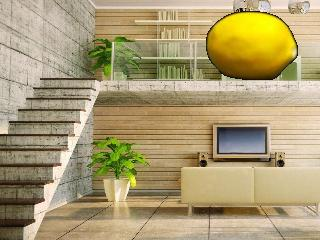lemon: (208, 12, 298, 79)
